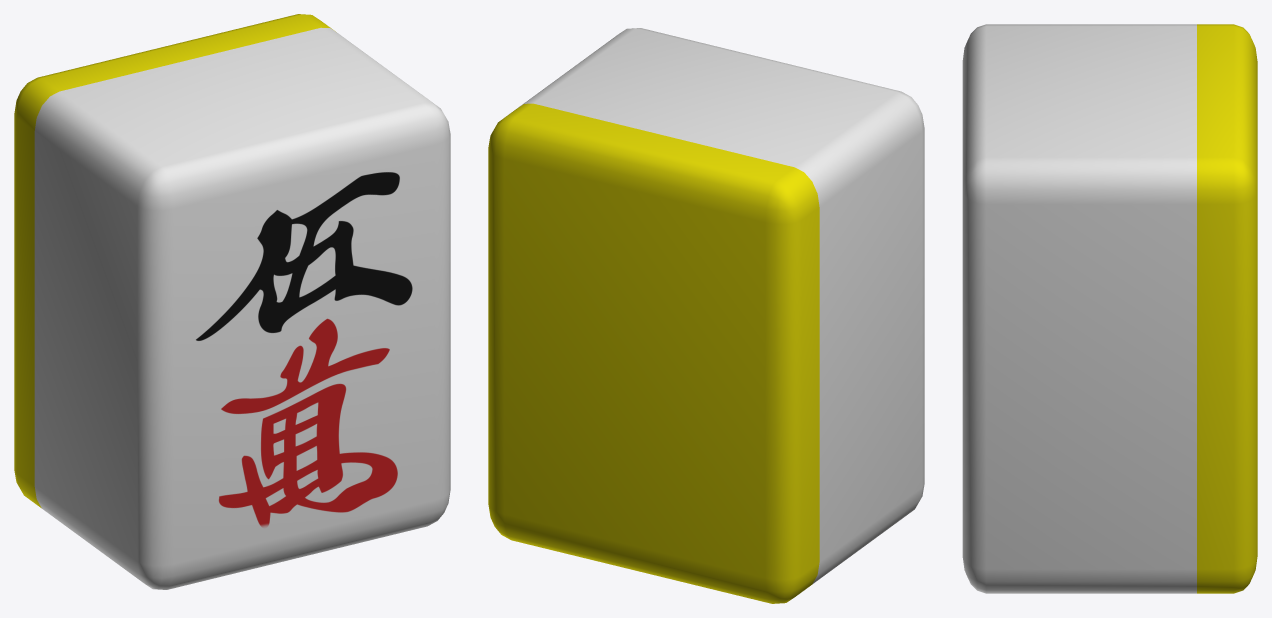
File: manzu5.glb
3 views of the same model, side by side, from view 1: azimuth 30°, elevation 25°; view 2: azimuth 150°, elevation 25°; view 3: azimuth 270°, elevation 25° (orthographic). The views are drawn at different scales.
Visible parts, largest first — view 1: Cube, Cube.001; view 2: Cube; view 3: Cube.
Part boxes in pixels (left/top/right/bottom): Cube: left=14, top=14, right=450, bottom=589; Cube.001: left=196, top=172, right=412, bottom=527; Cube: left=488, top=28, right=924, bottom=603; Cube: left=962, top=24, right=1257, bottom=593.
Size of the model in its own units: 2 by 2.6 by 1.6.
3 materials, 1 textured.
